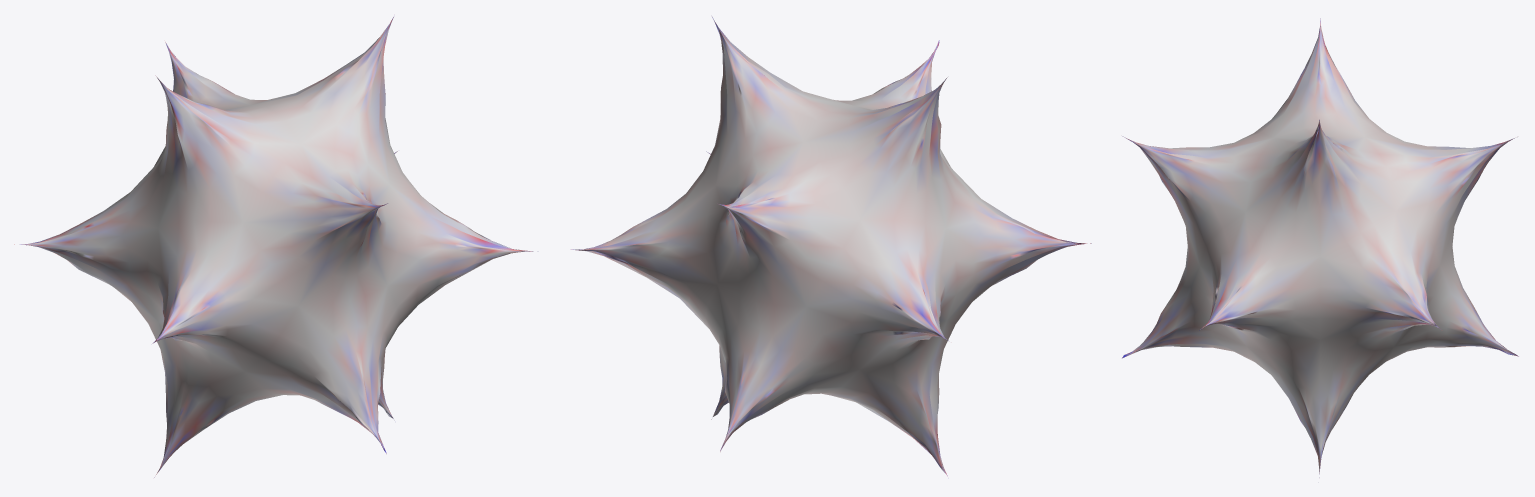
Rendered from my_stell2perturb.obj.
The picture shows the model from 3 angles, left to right: view 1: azimuth 30°, elevation 25°; view 2: azimuth 150°, elevation 25°; view 3: azimuth 270°, elevation 25°; orthographic projection. The views are drawn at different scales.
Size of the model in its own units: 2.62 by 2.64 by 2.61.
